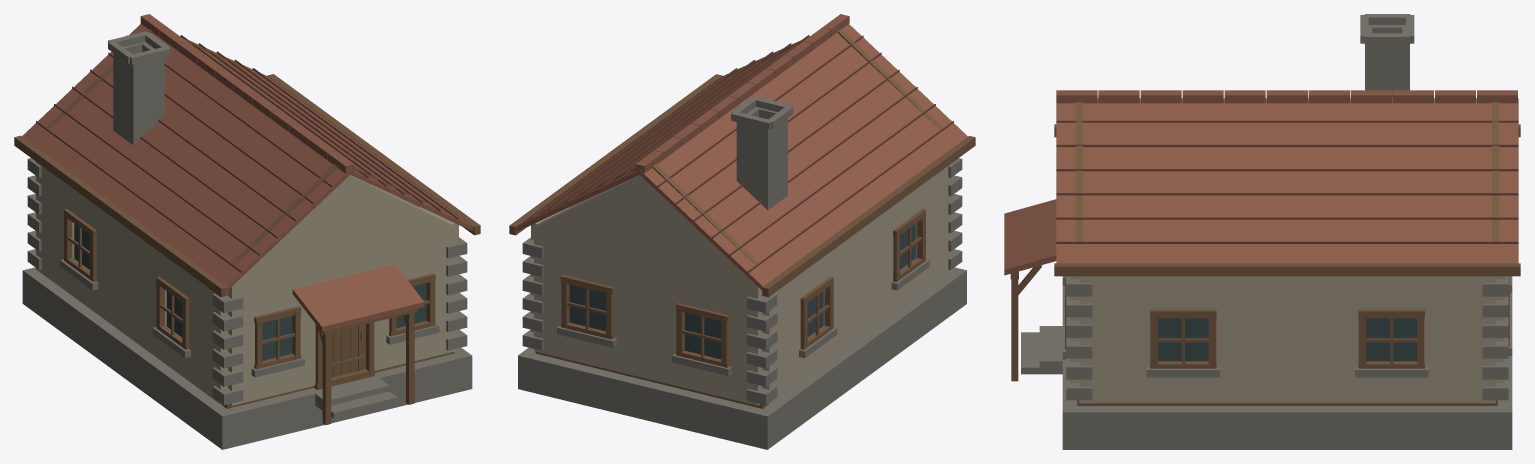
File: keeper_house.glb
3 views of the same model, side by side, from view 1: azimuth 30°, elevation 25°; view 2: azimuth 150°, elevation 25°; view 3: azimuth 270°, elevation 25° (orthographic). The views are drawn at different scales.
Parts seen in each view (by area): view 1: keeper_house_Keeper terracotta tile, keeper_house_Keeper lime plaster, keeper_house_Keeper sandstone foundations, keeper_house_Keeper weathered oak, keeper_house_Keeper darker roof seams, keeper_house_Keeper window glass; view 2: keeper_house_Keeper lime plaster, keeper_house_Keeper terracotta tile, keeper_house_Keeper sandstone foundations, keeper_house_Keeper weathered oak, keeper_house_Keeper darker roof seams, keeper_house_Keeper window glass; view 3: keeper_house_Keeper terracotta tile, keeper_house_Keeper lime plaster, keeper_house_Keeper sandstone foundations, keeper_house_Keeper weathered oak, keeper_house_Keeper darker roof seams, keeper_house_Keeper window glass.
Part boxes in pixels (left/top/right/bottom): keeper_house_Keeper terracotta tile: left=22, top=14, right=473, bottom=331; keeper_house_Keeper lime plaster: left=36, top=162, right=458, bottom=405; keeper_house_Keeper sandstone foundations: left=22, top=31, right=472, bottom=449; keeper_house_Keeper weathered oak: left=14, top=29, right=480, bottom=424; keeper_house_Keeper darker roof seams: left=36, top=35, right=458, bottom=272; keeper_house_Keeper window glass: left=74, top=223, right=426, bottom=360; keeper_house_Keeper lime plaster: left=531, top=162, right=953, bottom=405; keeper_house_Keeper terracotta tile: left=516, top=14, right=967, bottom=290; keeper_house_Keeper sandstone foundations: left=518, top=96, right=966, bottom=449; keeper_house_Keeper weathered oak: left=509, top=29, right=975, bottom=408; keeper_house_Keeper darker roof seams: left=531, top=35, right=953, bottom=272; keeper_house_Keeper window glass: left=569, top=224, right=915, bottom=359; keeper_house_Keeper terracotta tile: left=1004, top=90, right=1518, bottom=275; keeper_house_Keeper lime plaster: left=1070, top=276, right=1504, bottom=403; keeper_house_Keeper sandstone foundations: left=1021, top=14, right=1512, bottom=449; keeper_house_Keeper weathered oak: left=1010, top=102, right=1520, bottom=405; keeper_house_Keeper darker roof seams: left=1056, top=120, right=1518, bottom=243; keeper_house_Keeper window glass: left=1158, top=318, right=1416, bottom=361.
Bounding box in the file's own units: 8.1 × 8.5 × 12.4.
